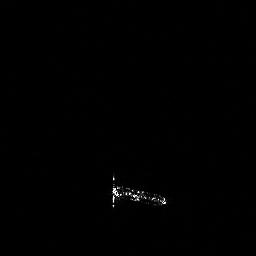ship: (111, 172, 169, 209)
